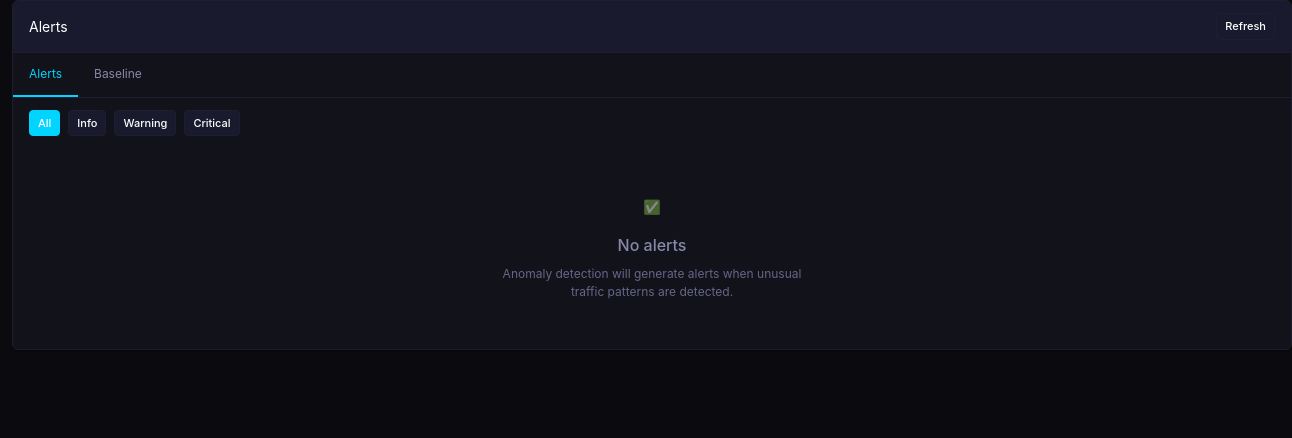
Test case: AlertsPage › loads typed alerts and baseline data without a context-free anomaly scan
The image size is (1292, 438).
Expected: the text "No alerts" is shown, [618, 233, 686, 257]
Click the tab "Baseline": [118, 74] box [78, 52, 158, 96]
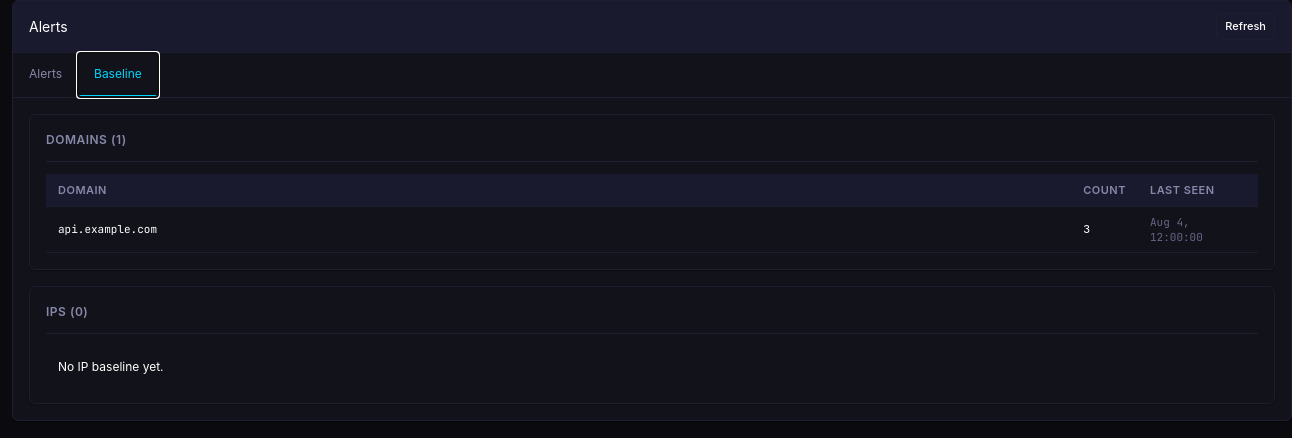
Now the text "api.example.com" is shown, box [46, 206, 1071, 253]
